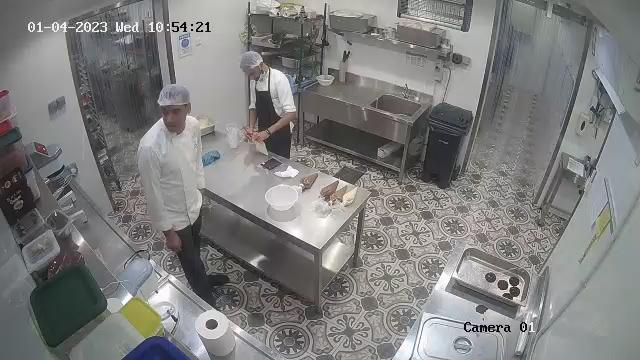apron: (254, 72, 288, 154)
no_apron: (150, 118, 203, 231)
